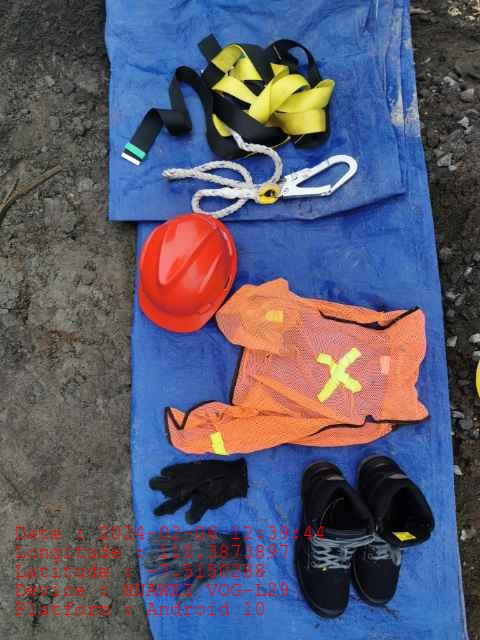HELM: (137, 212, 237, 334)
ROMPI: (214, 286, 429, 452)
SARUNG_TANGAN: (148, 458, 246, 525)
TAMBANG_SLING: (147, 150, 360, 214)
